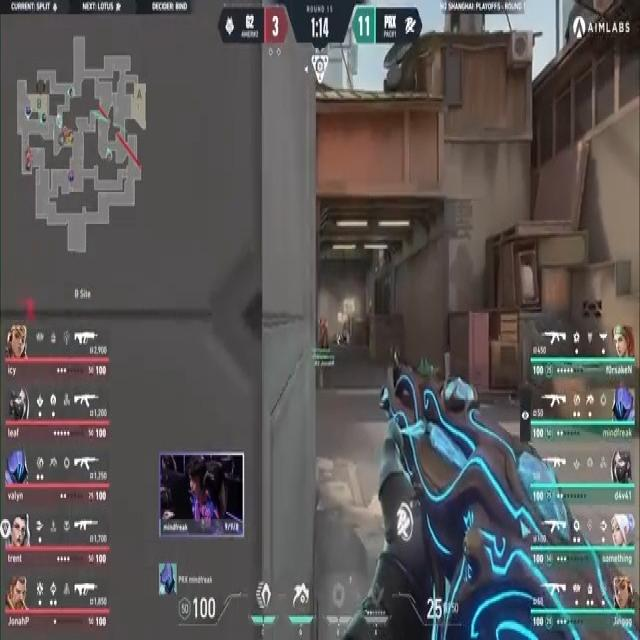enemy: (321, 313, 330, 350)
